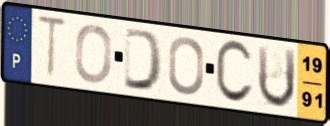C: (213, 38, 256, 107)
D: (121, 25, 165, 94)
O: (73, 23, 114, 85), (166, 35, 206, 97)
T: (34, 13, 69, 83)
U: (255, 43, 298, 111)
